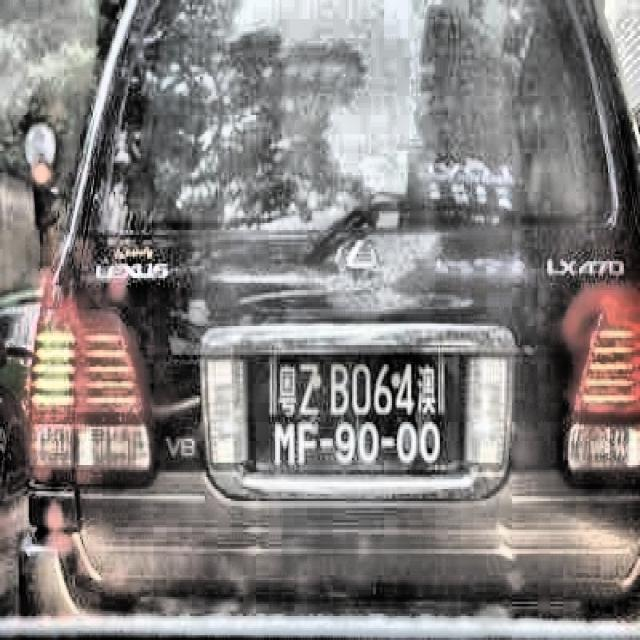license_plate: (252, 349, 461, 472)
